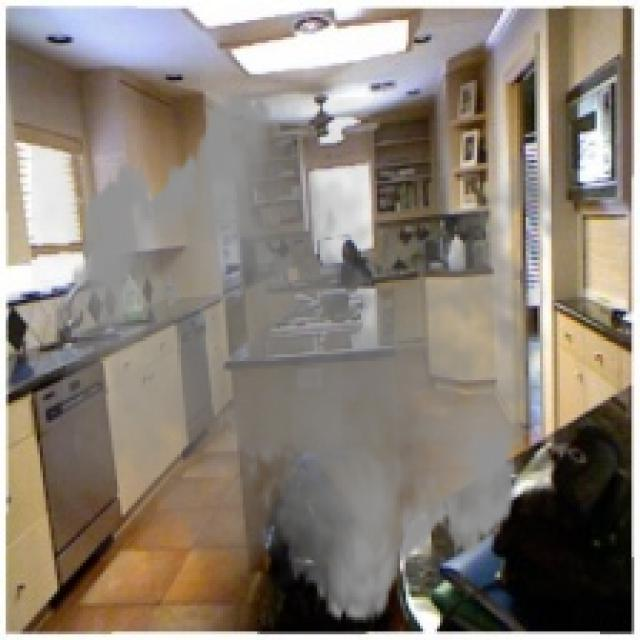Smoke: (31, 77, 583, 637)
